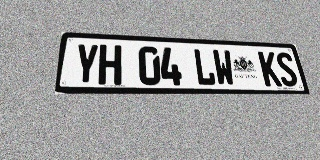0: (138, 46, 161, 85)
4: (159, 47, 182, 85)
H: (98, 44, 121, 85)
K: (258, 51, 282, 86)
L: (193, 48, 216, 86)
S: (274, 52, 299, 86)
W: (212, 49, 236, 86)
Y: (73, 43, 99, 85)
